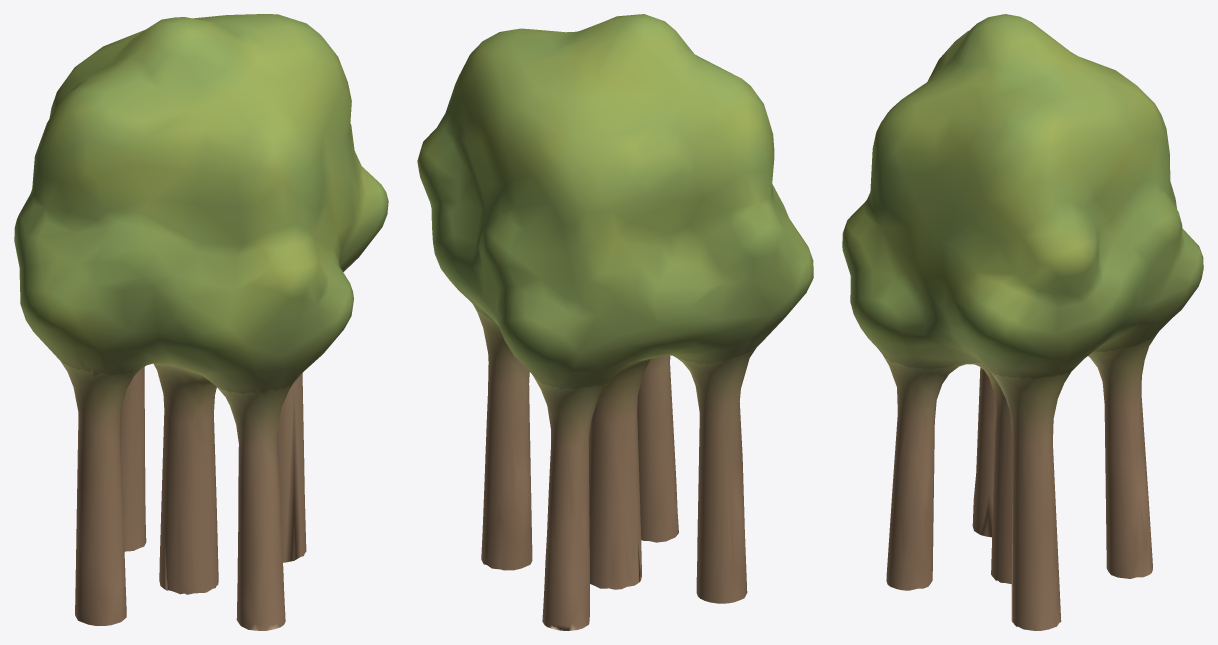
Rendered from cluster8.glb.
3 renders of one model, left to right at view 1: azimuth 30°, elevation 25°; view 2: azimuth 150°, elevation 25°; view 3: azimuth 270°, elevation 25°, orthographic. The views are drawn at different scales.
Visible parts, largest first — view 1: body; view 2: body; view 3: body.
Part boxes in pixels (x1,y1,x2,y2): body: (14, 14, 388, 630); body: (417, 14, 813, 630); body: (842, 14, 1203, 630).
Bounding box in the file's own units: 7.36 × 10.93 × 6.55.
